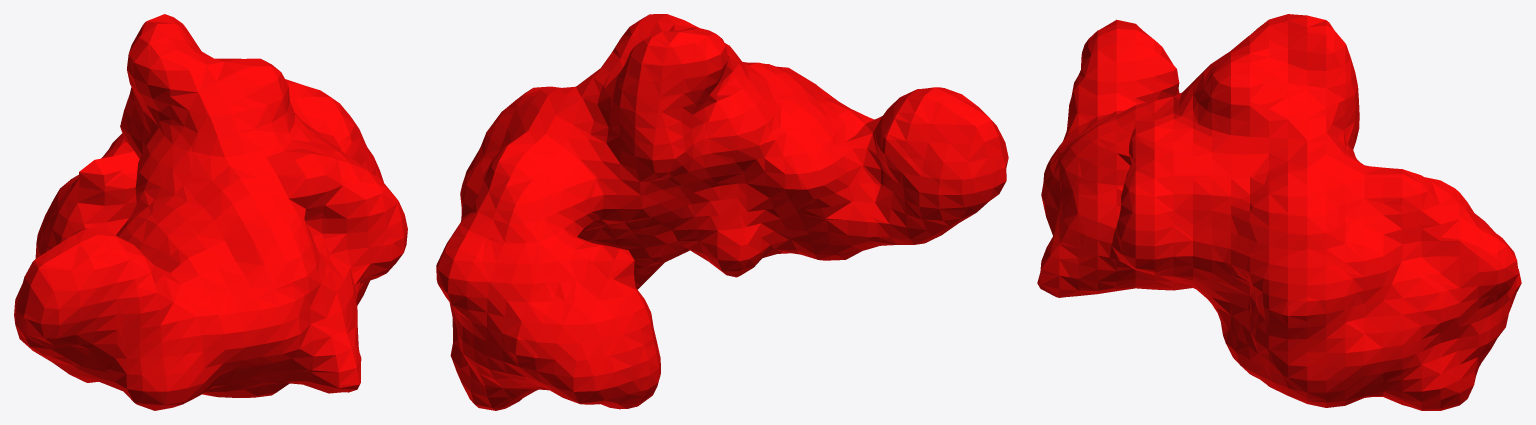
File: cca_coarse.dae
3 views of the same model, side by side, from view 1: azimuth 30°, elevation 25°; view 2: azimuth 150°, elevation 25°; view 3: azimuth 270°, elevation 25° (orthographic). The views are drawn at different scales.
Visible parts, largest first — view 1: cca; view 2: cca; view 3: cca.
Part boxes in pixels (left/top/right/bottom): cca: left=14, top=14, right=407, bottom=410; cca: left=436, top=14, right=1008, bottom=410; cca: left=1037, top=14, right=1521, bottom=410.
Size of the model in its own units: 78.81 by 60.57 by 78.6.
